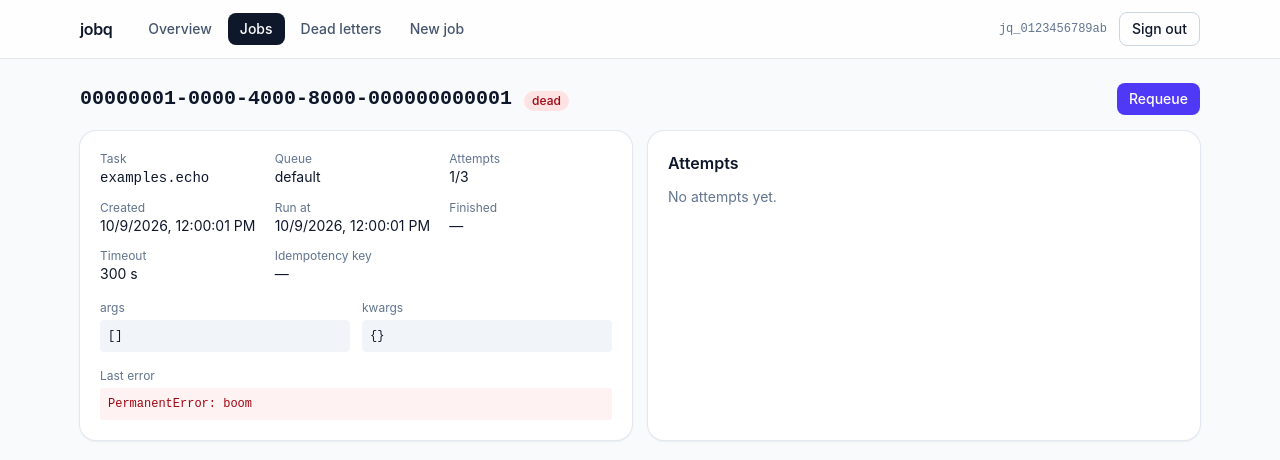
Scenario: JobPage › requeues a dead job
Check: the text "PermanentError: boom" is shown, box [100,388,612,420]
Check: the text "No attempts yet." is shown, box [668,188,777,205]
Click the button "Requeue". click: [1158, 99]
box: [1117,83,1200,115]
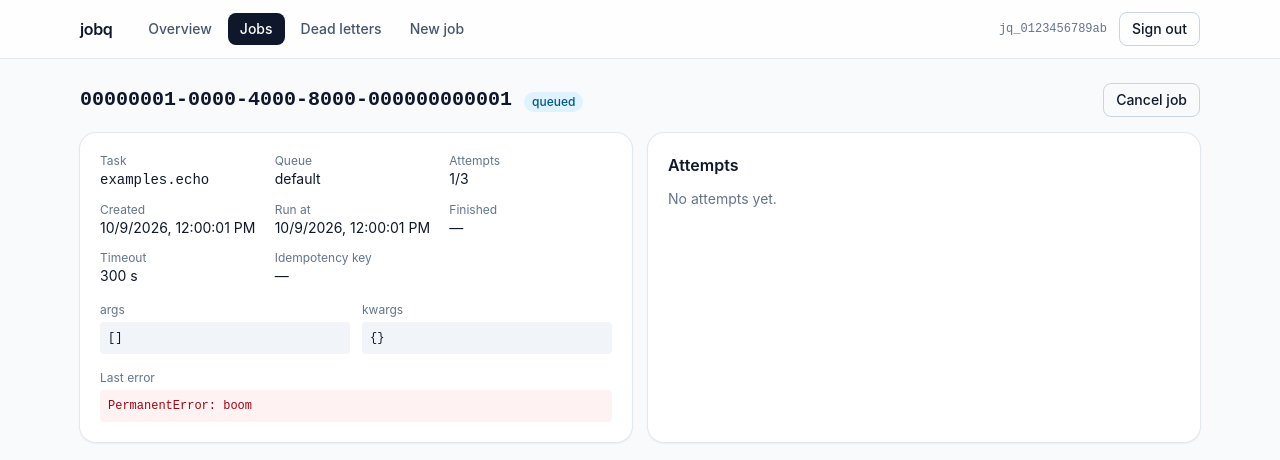
Check: the element with test id "job-status" reads "queued", box [532,94,576,109]
